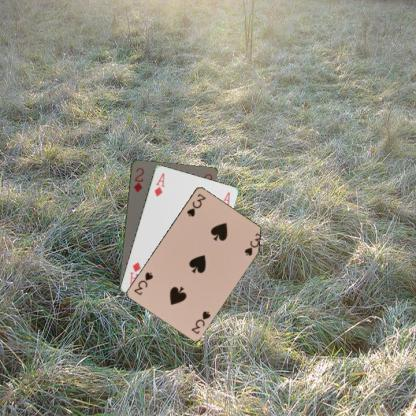2d: (131, 165, 145, 194)
3s: (188, 308, 212, 335), (184, 190, 207, 218)
Ad: (151, 170, 166, 197)
